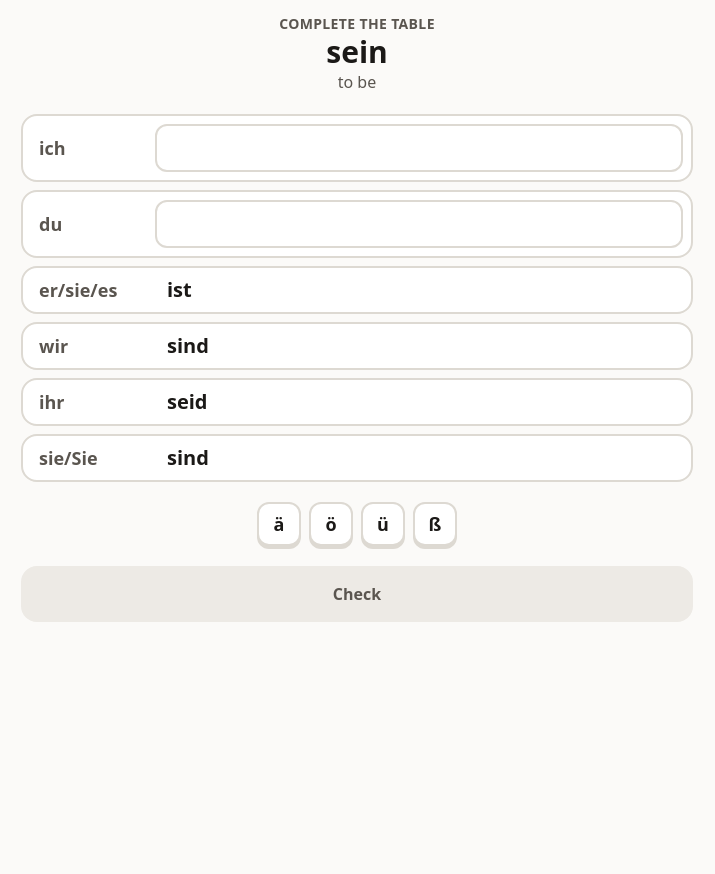
Test: conjugationWhy › shows the why and the lesson after a wrong table
Type "ist" into the field labelled "ich" at (419, 148), box 155,124 -> 683,172
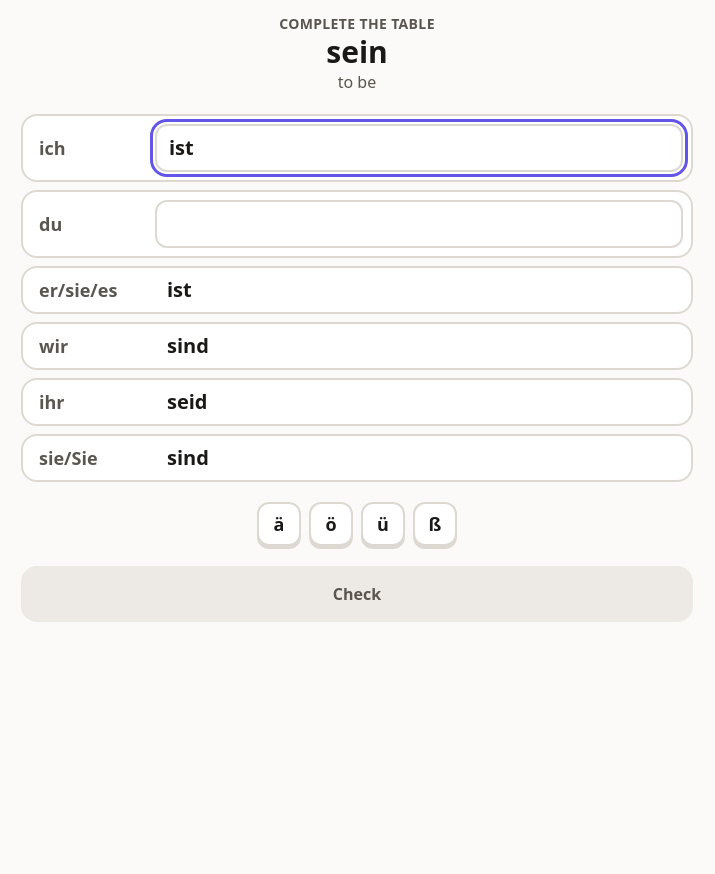
Type "bist" into the field labelled "du" at (419, 224), box 155,200 -> 683,248
Then press Enter
(page scrolled)
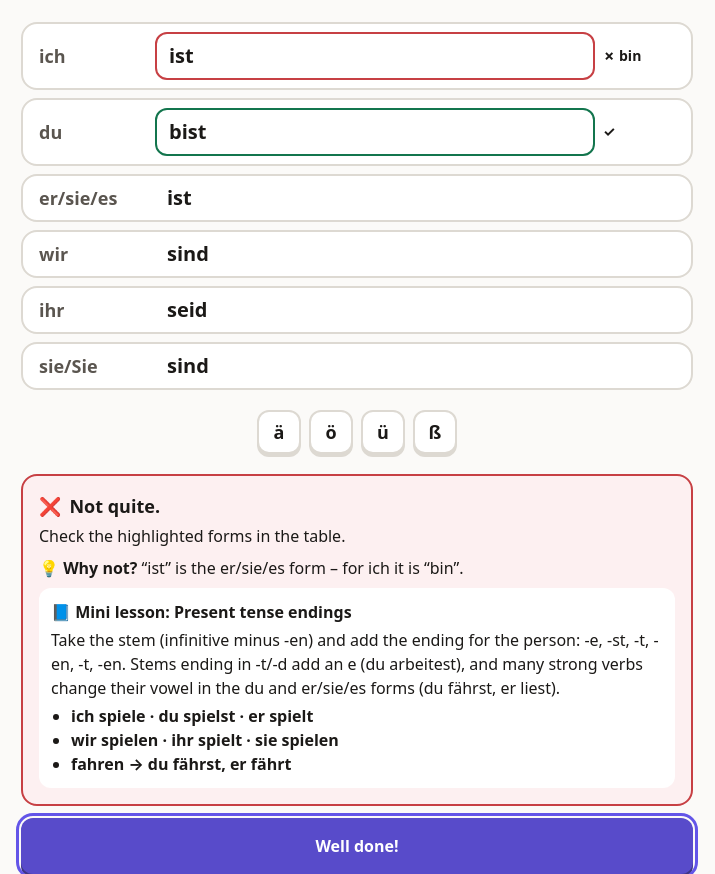
Expected: the element with test id "mistake-why" shows "“ist” is the er/sie/es form", 142,557 -> 464,579
Expected: the element with test id "mini-lesson" is shown, 39,588 -> 675,788
